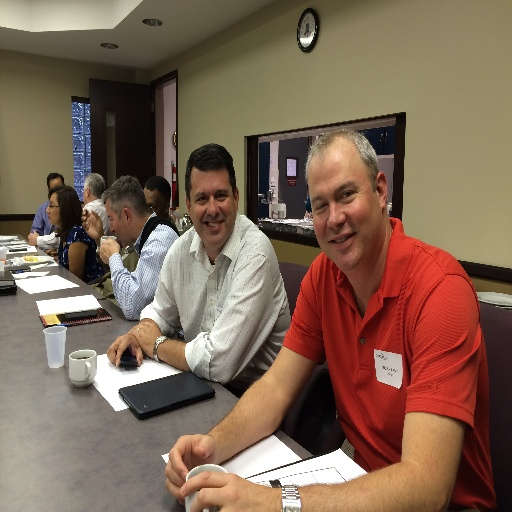hand: (165, 433, 225, 497), (179, 470, 264, 511), (127, 321, 162, 359), (105, 335, 142, 366), (81, 208, 104, 241), (99, 236, 120, 262), (27, 229, 40, 246)
